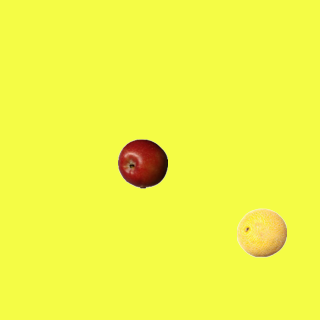Apple Braeburn: (117, 138, 167, 188)
Cantaloupe 1: (236, 207, 286, 257)
